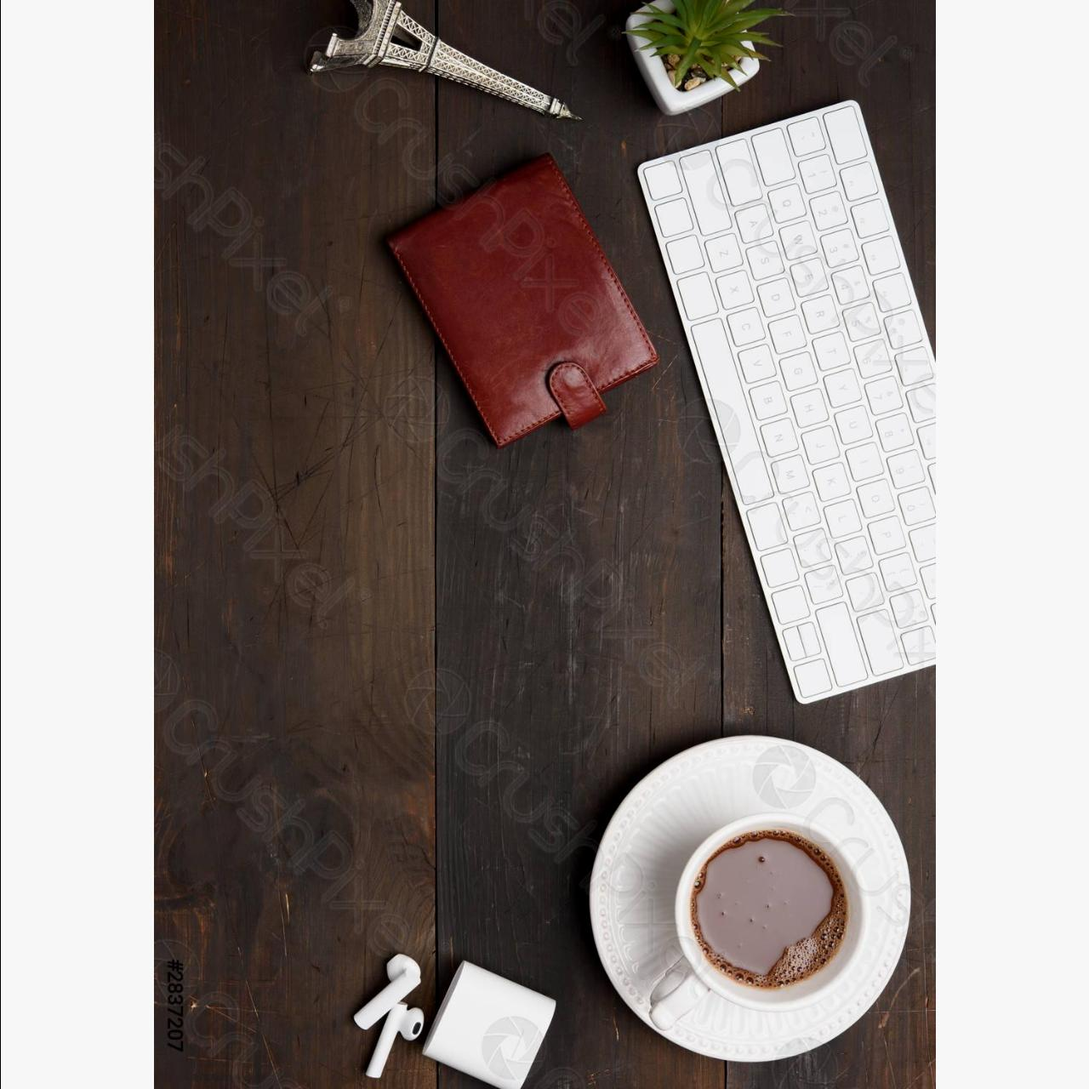wallet: (382, 141, 659, 490)
